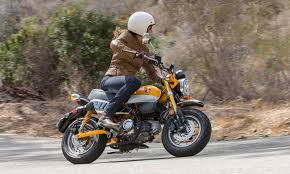motorcycle: (56, 34, 213, 164)
